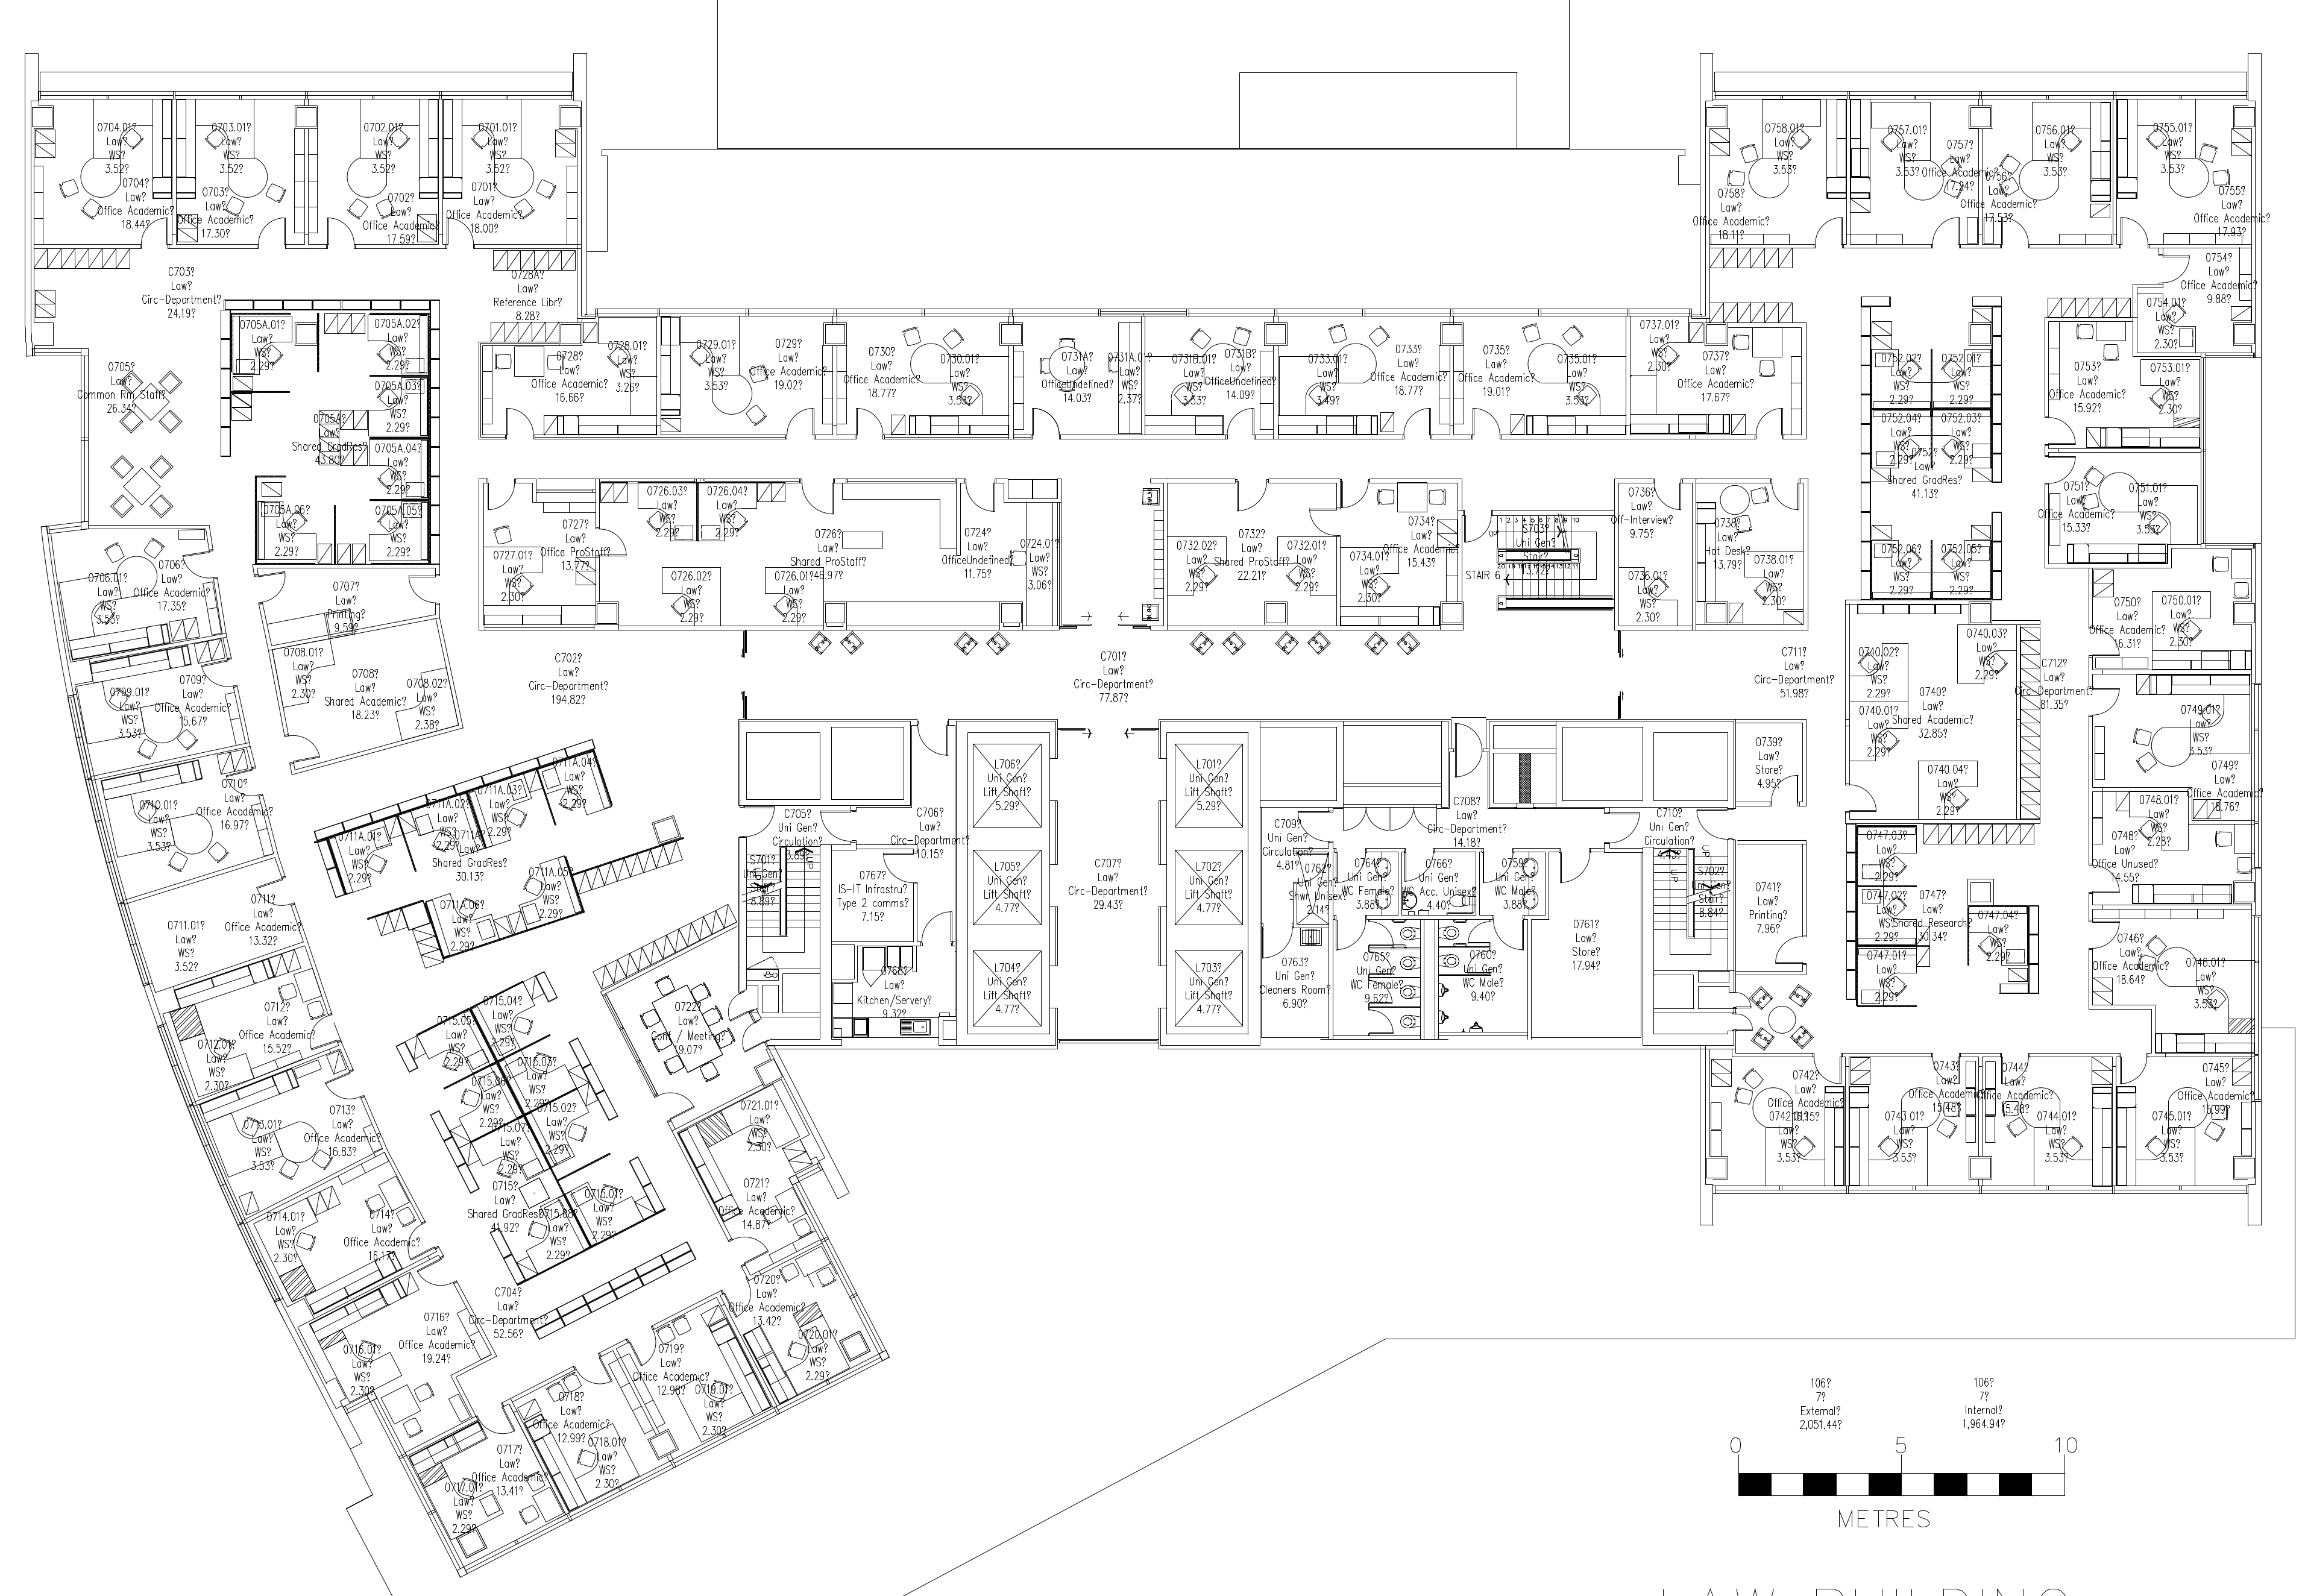door: (659, 1083, 699, 1121), (303, 1011, 340, 1053), (625, 1328, 662, 1368), (576, 1354, 613, 1395), (1554, 851, 1594, 888), (1342, 808, 1391, 837), (1769, 475, 1801, 520), (256, 569, 293, 608), (399, 569, 436, 608), (182, 547, 219, 585), (201, 655, 238, 694), (284, 725, 321, 764), (254, 876, 291, 915), (480, 1403, 515, 1444), (1752, 399, 1787, 440), (1391, 808, 1438, 837), (781, 398, 818, 434), (849, 398, 886, 434), (963, 482, 1000, 519), (1028, 398, 1065, 434), (1396, 406, 1433, 443), (1468, 405, 1503, 443), (1294, 809, 1336, 841), (799, 484, 835, 519), (1231, 484, 1268, 519), (1219, 399, 1256, 434), (1300, 501, 1336, 536), (1338, 480, 1375, 515), (816, 809, 855, 843), (736, 806, 776, 837), (876, 851, 916, 883), (1606, 809, 1641, 844), (1694, 808, 1731, 841), (1846, 780, 1883, 813), (1767, 934, 1804, 967), (734, 1232, 769, 1265), (916, 911, 955, 941), (914, 727, 953, 757), (599, 527, 638, 557), (1769, 771, 1799, 809), (2000, 1049, 2030, 1088), (2119, 1049, 2149, 1088), (2091, 857, 2121, 895), (2093, 683, 2123, 722), (1261, 927, 1294, 960), (1401, 851, 1434, 885), (1463, 510, 1492, 547), (1932, 1051, 1962, 1088), (1813, 1048, 1843, 1084), (2093, 918, 2123, 955), (254, 215, 287, 247), (324, 215, 357, 247), (1335, 920, 1366, 953), (1492, 918, 1524, 951), (1482, 851, 1513, 885), (1652, 480, 1683, 513), (2049, 454, 2079, 489), (1932, 214, 1962, 249), (2119, 214, 2149, 249), (2093, 620, 2121, 657), (504, 403, 536, 434), (485, 478, 517, 510), (2160, 252, 2191, 284), (2049, 415, 2081, 447), (137, 217, 170, 247), (445, 217, 478, 247), (1813, 215, 1843, 249), (2000, 214, 2030, 247), (725, 990, 751, 1025), (739, 1020, 765, 1053), (1736, 1011, 1755, 1035), (1736, 985, 1753, 1009)
